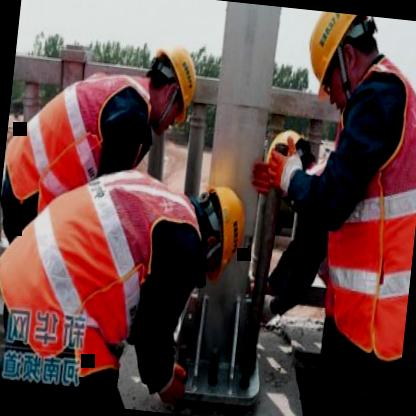helmet: (292, 9, 381, 109), (140, 38, 204, 134), (188, 180, 247, 276), (255, 125, 318, 196)
